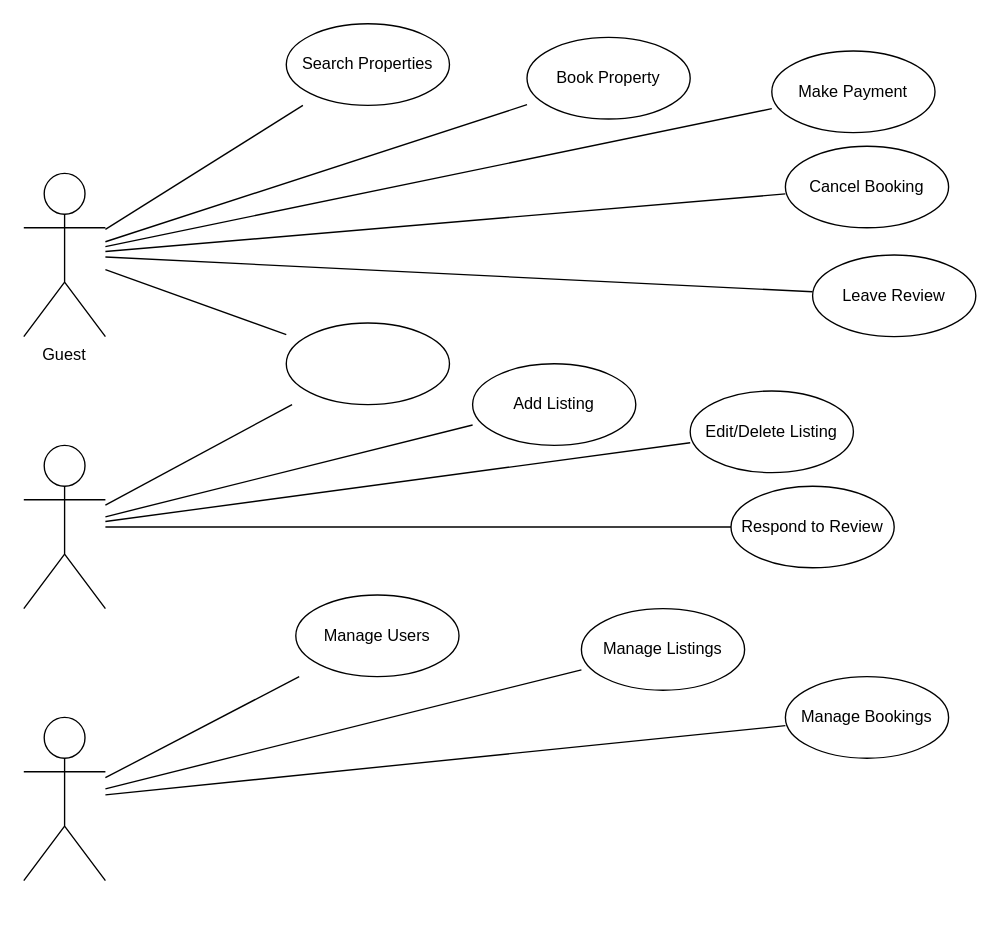
Image size: 1000x933. Some labels were removed from this diagram. The shapes that lost their labels are listed below. From the top down, each one's box as (x1, y1, x2, y2) in pixels, then its label:
(285, 322, 449, 405): Register / Login
(22, 444, 105, 609): Host
(22, 716, 105, 881): Admin
